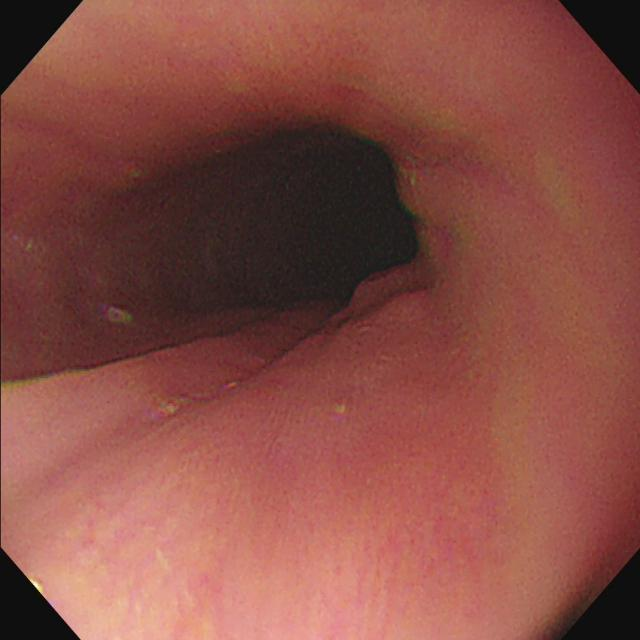E: (220, 104, 442, 352)
